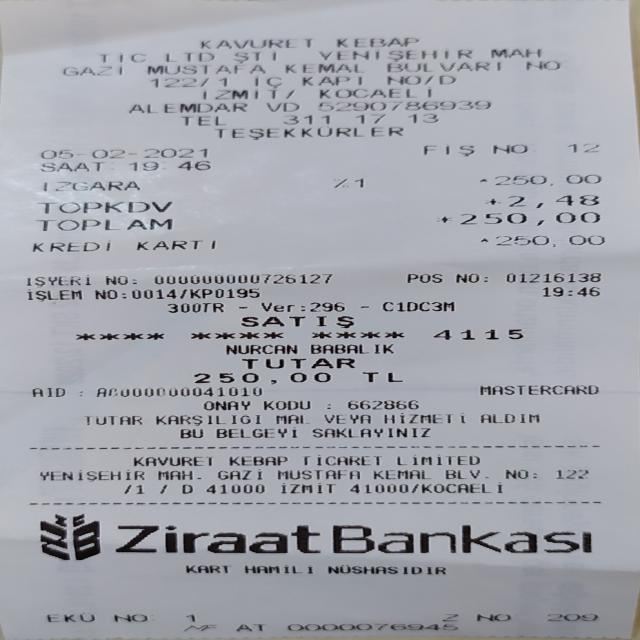text: (328, 522, 594, 554), (115, 522, 319, 554), (152, 272, 330, 285), (217, 126, 400, 138), (96, 385, 259, 398), (316, 99, 488, 111), (38, 147, 206, 159), (461, 211, 600, 225), (314, 48, 475, 60), (192, 370, 329, 384), (126, 100, 246, 114), (34, 218, 172, 230), (41, 200, 172, 212), (310, 426, 429, 439), (286, 622, 455, 631), (154, 412, 260, 426), (240, 356, 354, 369), (240, 315, 352, 328), (199, 37, 310, 50), (39, 468, 142, 482), (384, 61, 498, 73), (504, 270, 598, 284), (500, 173, 600, 186), (146, 64, 263, 75), (317, 87, 429, 98), (396, 452, 478, 467), (421, 480, 502, 495), (502, 234, 602, 246), (478, 384, 597, 394), (488, 195, 579, 208), (432, 327, 522, 340), (131, 453, 209, 468), (302, 452, 380, 467), (276, 467, 358, 481), (382, 411, 462, 425), (41, 180, 138, 191), (334, 36, 416, 49), (134, 238, 215, 251), (216, 426, 296, 439), (30, 239, 109, 252), (130, 160, 212, 172), (381, 299, 453, 312), (197, 88, 279, 99), (227, 453, 287, 468), (188, 286, 257, 299), (309, 343, 390, 354), (149, 77, 229, 88), (283, 62, 356, 74), (83, 412, 140, 427), (371, 466, 428, 481), (348, 480, 407, 494), (205, 481, 262, 495), (299, 73, 360, 86), (224, 343, 294, 354), (346, 399, 416, 410), (479, 411, 538, 424), (23, 274, 92, 285), (280, 481, 334, 495), (489, 46, 541, 60), (61, 65, 124, 76), (327, 565, 396, 575), (244, 564, 311, 574), (166, 301, 221, 313), (26, 288, 80, 300), (161, 50, 214, 62), (44, 612, 97, 624), (39, 161, 102, 171), (129, 286, 174, 300), (324, 412, 369, 426), (422, 144, 473, 156), (360, 369, 400, 384), (546, 611, 596, 623), (282, 113, 328, 126), (100, 50, 142, 64), (232, 49, 274, 63), (217, 467, 259, 481), (541, 286, 598, 296), (180, 114, 223, 127), (490, 142, 528, 156), (262, 399, 307, 410), (274, 412, 308, 426), (444, 466, 475, 481), (264, 99, 297, 113), (156, 467, 189, 481), (202, 400, 248, 410), (524, 59, 559, 72), (406, 271, 440, 284), (566, 141, 600, 154), (31, 385, 64, 398), (354, 112, 384, 126), (475, 611, 509, 623), (384, 73, 415, 86), (554, 467, 585, 480), (261, 300, 291, 313), (184, 564, 227, 573), (407, 112, 436, 125), (253, 76, 286, 87), (113, 612, 145, 623), (405, 566, 441, 575), (105, 272, 126, 287), (121, 482, 143, 496), (455, 271, 477, 284), (94, 287, 116, 300), (180, 426, 202, 439), (504, 467, 526, 480), (328, 176, 349, 188), (234, 623, 260, 632), (176, 482, 194, 494), (442, 611, 456, 623), (481, 234, 492, 248), (436, 215, 451, 225), (444, 72, 454, 85), (480, 174, 490, 187), (353, 178, 366, 188), (410, 480, 419, 494), (237, 300, 246, 313), (184, 611, 193, 623), (359, 299, 367, 312), (178, 286, 185, 300), (158, 482, 165, 496), (480, 466, 486, 481), (424, 72, 430, 86), (298, 300, 305, 312), (130, 272, 134, 287), (120, 287, 124, 300), (530, 467, 534, 480), (324, 399, 328, 410), (482, 270, 485, 284), (196, 467, 199, 481), (78, 385, 80, 398)
